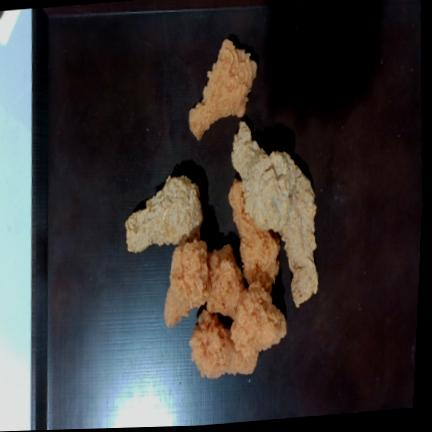chicken: (189, 40, 256, 140), (232, 121, 289, 229), (125, 175, 203, 252), (229, 179, 279, 292), (280, 164, 317, 307), (189, 310, 258, 378), (231, 282, 286, 356), (164, 240, 209, 326), (207, 244, 245, 318)
